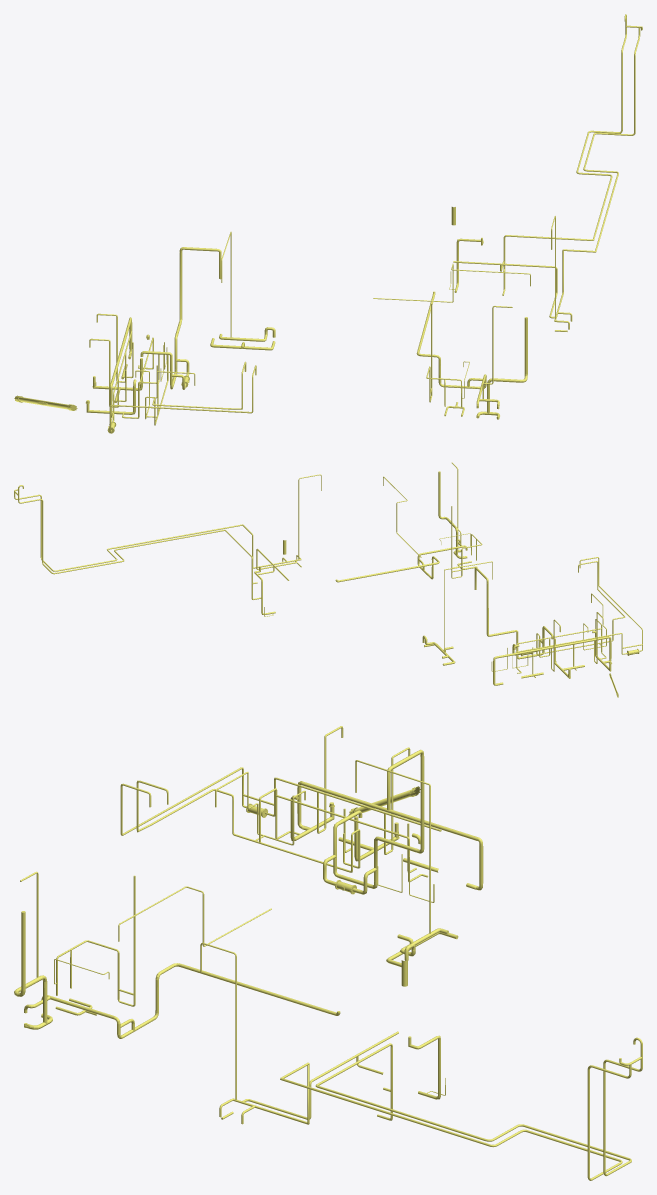
Rendered from NoLod_23.glb.
3 renders of one model, top to bottom at view 1: azimuth 30°, elevation 25°; view 2: azimuth 150°, elevation 25°; view 3: azimuth 270°, elevation 25°, orthographic. The views are drawn at different scales.
Parts seen in each view (by area): view 1: rtc; view 2: rtc; view 3: rtc.
Part boxes in pixels (<box>): rtc: <box>14,14,642,433</box>; rtc: <box>14,462,642,697</box>; rtc: <box>14,726,642,1180</box>.
Bounding box in the file's own units: 71.72 × 16.05 × 39.6.
